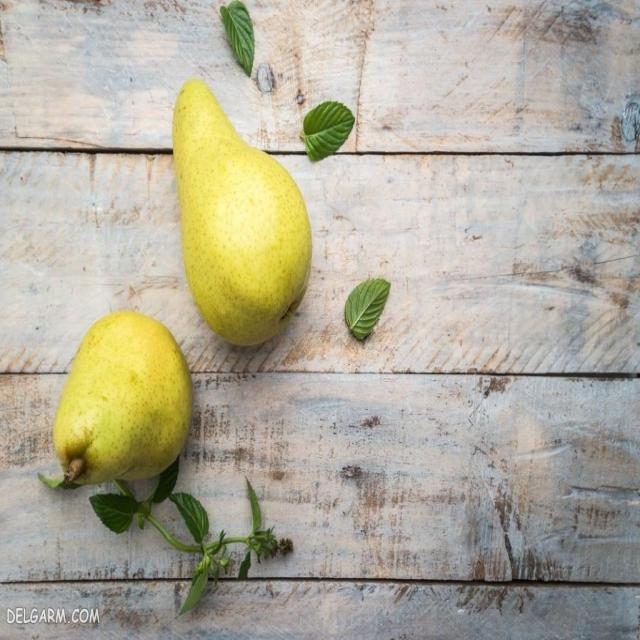pear: (168, 70, 316, 352), (52, 304, 202, 494)
